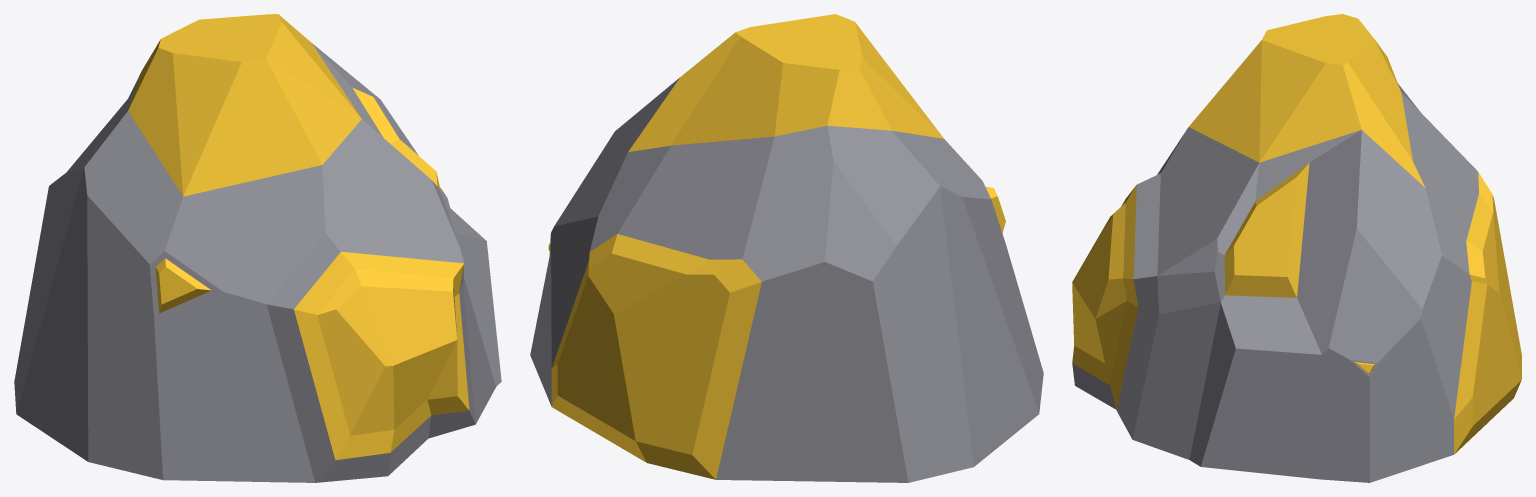
Rendered from GoldVein.fbx.
The picture shows the model from 3 angles, left to right: view 1: azimuth 30°, elevation 25°; view 2: azimuth 150°, elevation 25°; view 3: azimuth 270°, elevation 25°; orthographic projection. The views are drawn at different scales.
Parts seen in each view (by area): view 1: GoldVein; view 2: GoldVein; view 3: GoldVein.
Boxes of the visible parts, <box> form: GoldVein: <box>14,14,501,482</box>; GoldVein: <box>530,14,1043,482</box>; GoldVein: <box>1072,14,1521,482</box>.
Bounding box in the file's own units: 5.59 × 4.35 × 5.29.
